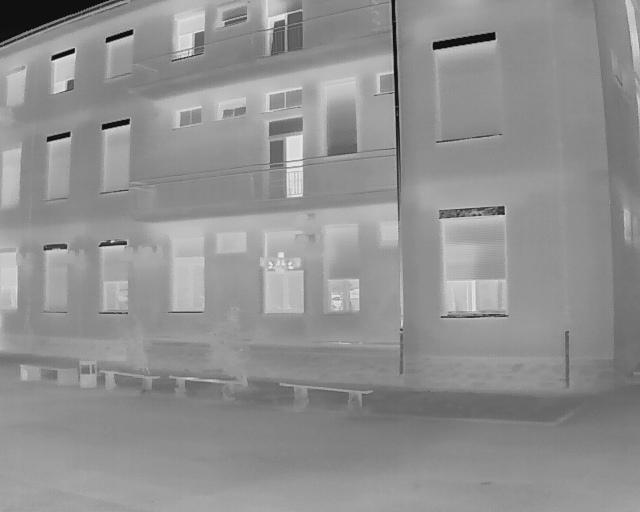drone: (258, 250, 303, 279)
